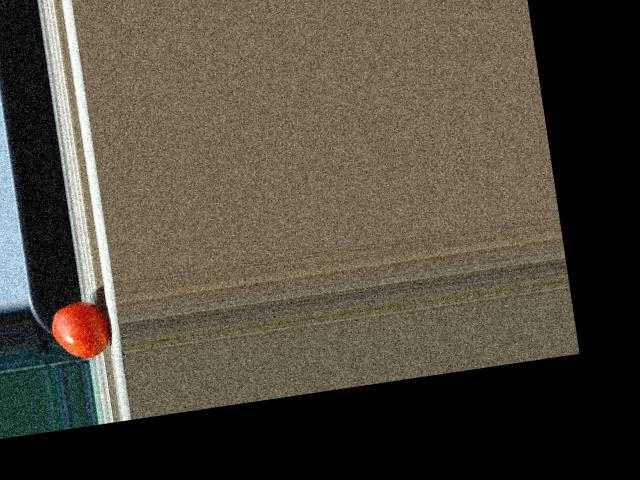tomato: (48, 298, 111, 362)
